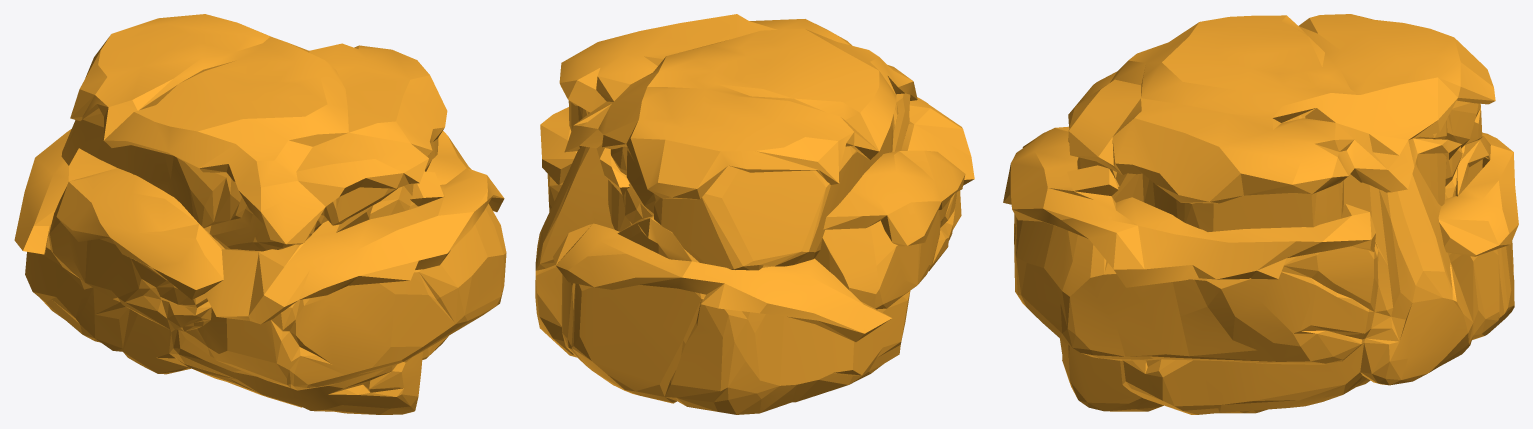
Rendered from SM_Rock_E_Snow.fbx.
3 renders of one model, left to right at view 1: azimuth 30°, elevation 25°; view 2: azimuth 150°, elevation 25°; view 3: azimuth 270°, elevation 25°, orthographic. The views are drawn at different scales.
Parts seen in each view (by area): view 1: rock-e-snow; view 2: rock-e-snow; view 3: rock-e-snow.
Boxes of the visible parts, x1,y1,x2,y2 form: rock-e-snow: (14, 14, 506, 414); rock-e-snow: (535, 14, 974, 414); rock-e-snow: (1003, 14, 1518, 414).
Size of the model in its own units: 11.88 by 8.91 by 13.4.
